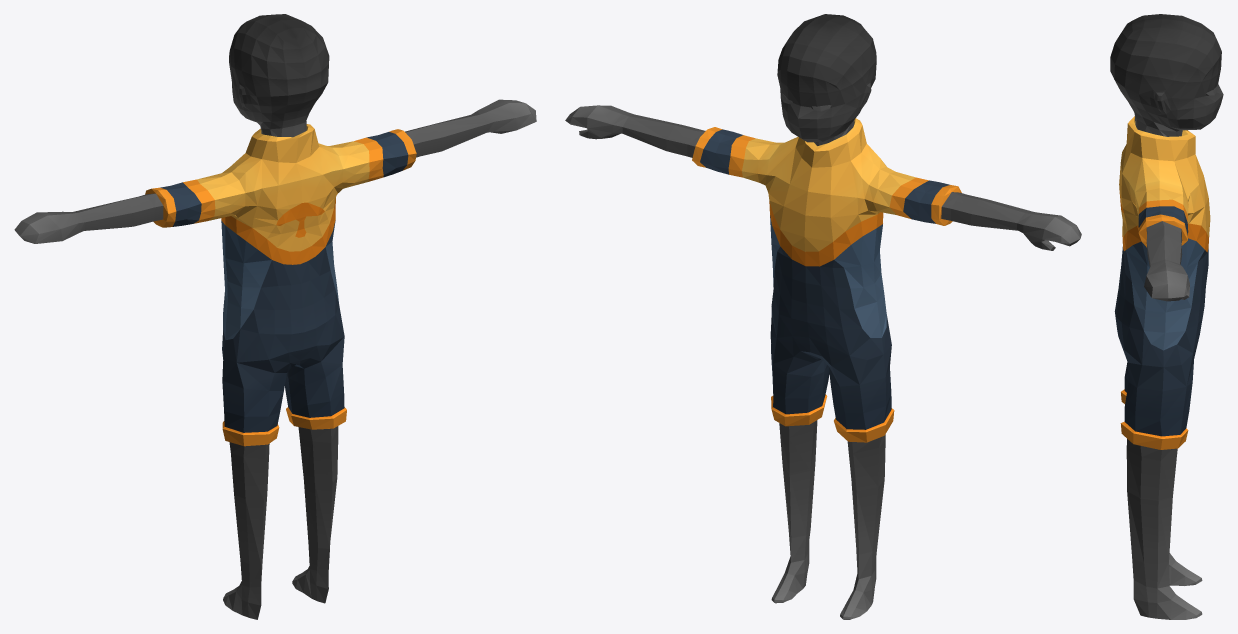
The model's file is CharSkyKid_Body_SunlightWetsuit.glb.
3 views of the same model, side by side, from view 1: azimuth 30°, elevation 25°; view 2: azimuth 150°, elevation 25°; view 3: azimuth 270°, elevation 25° (orthographic).
Visible parts, largest first — view 1: CharSkyKid_Body_SunlightWetsuit; view 2: CharSkyKid_Body_SunlightWetsuit; view 3: CharSkyKid_Body_SunlightWetsuit.
Part boxes in pixels (<box>): CharSkyKid_Body_SunlightWetsuit: <box>14,14,536,619</box>; CharSkyKid_Body_SunlightWetsuit: <box>565,14,1081,619</box>; CharSkyKid_Body_SunlightWetsuit: <box>1110,14,1223,619</box>.
Size of the model in its own units: 13.83 by 14.94 by 2.64.
1 material, 1 textured.
